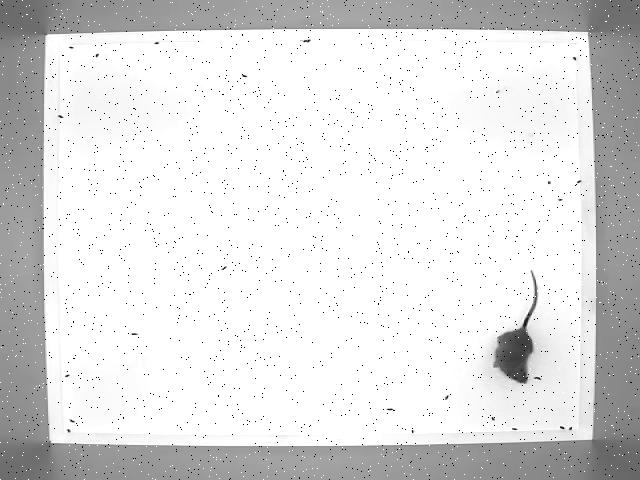Tikus: (496, 265, 552, 389)
